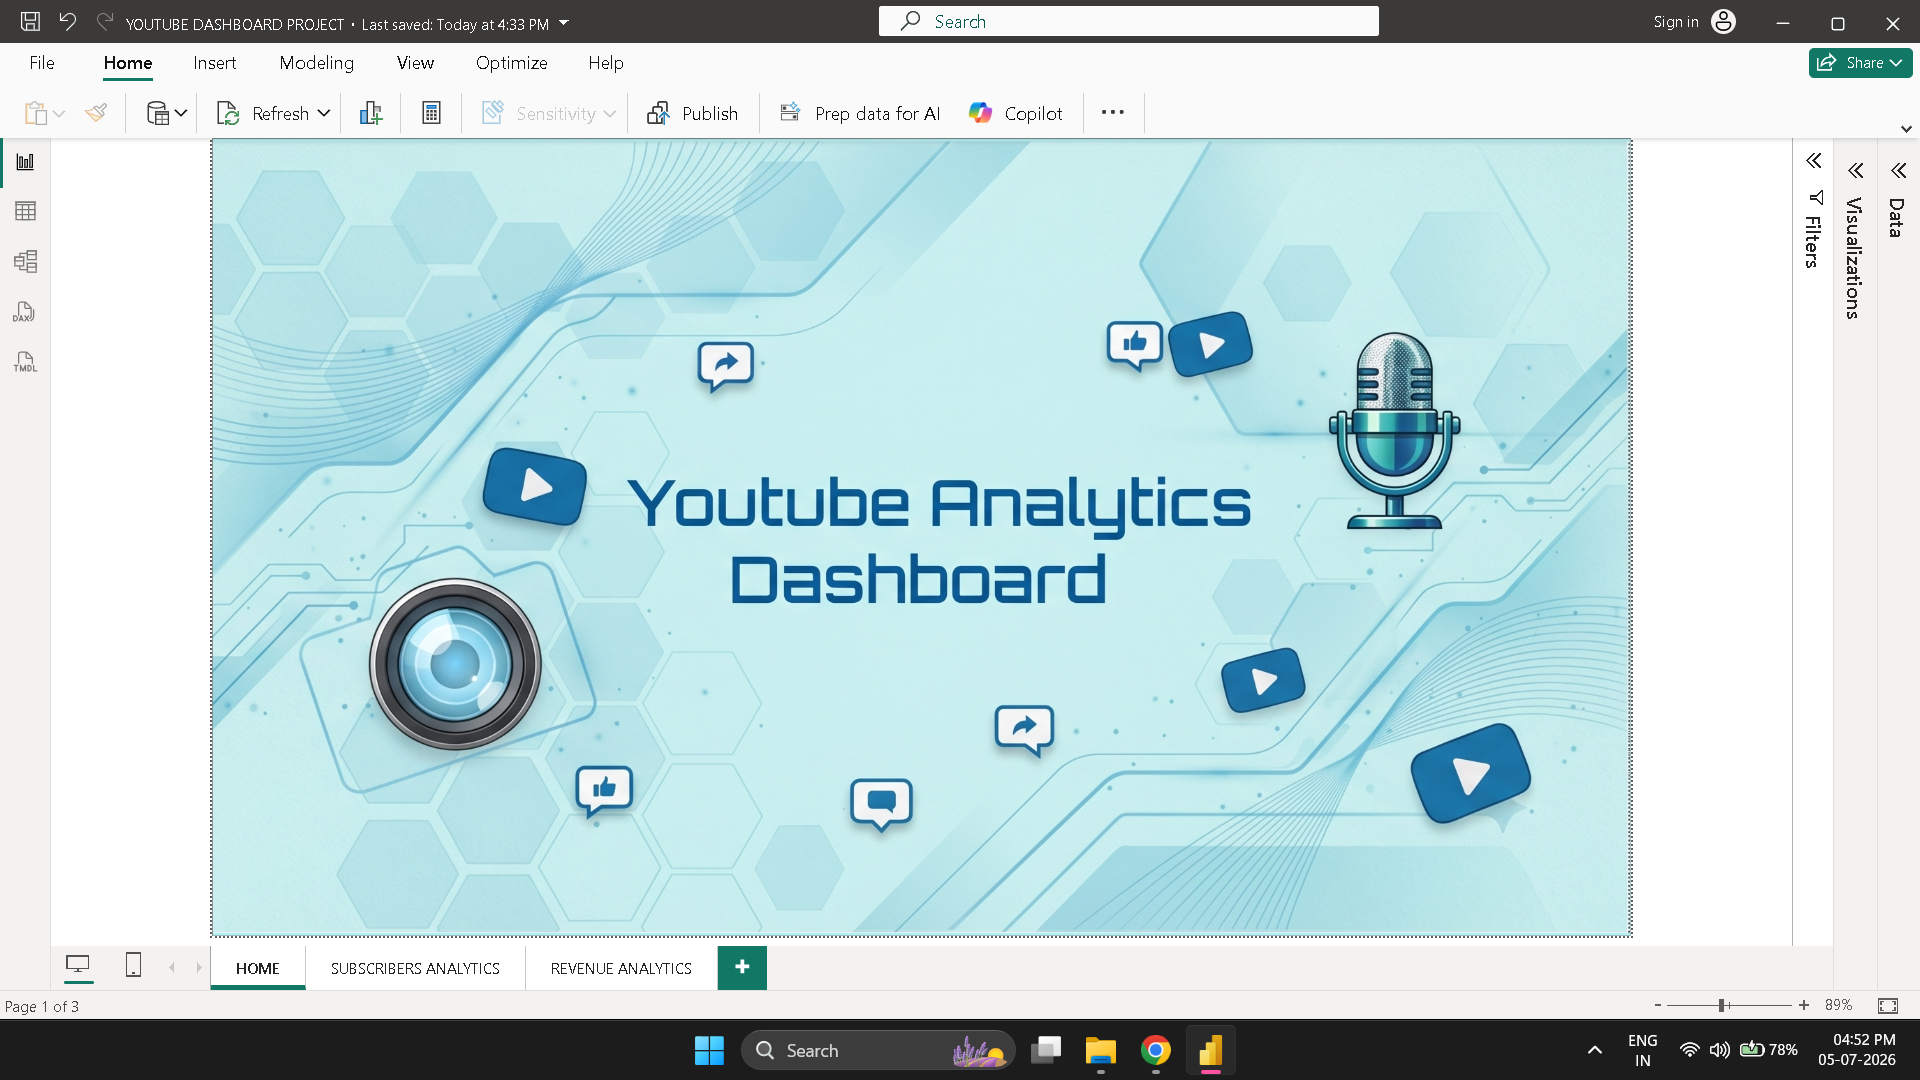

What the dashboard file says about the page in this screenshot:
{"tool":"powerbi","page":{"name":"HOME","canvas":[1280,720],"ordinal":0},"visuals":[{"type":"image","box":[0,0,1279.9,720.2],"z":0}]}

Visuals, with their boxes on the page's 1280x720 design canvas (x1, y1, x2, y2). These are canvas units, not pixel positions in the 1920x1080 screenshot, which may show the page scaled, cropped or inside an application window:
image: (0, 0, 1280, 720)
